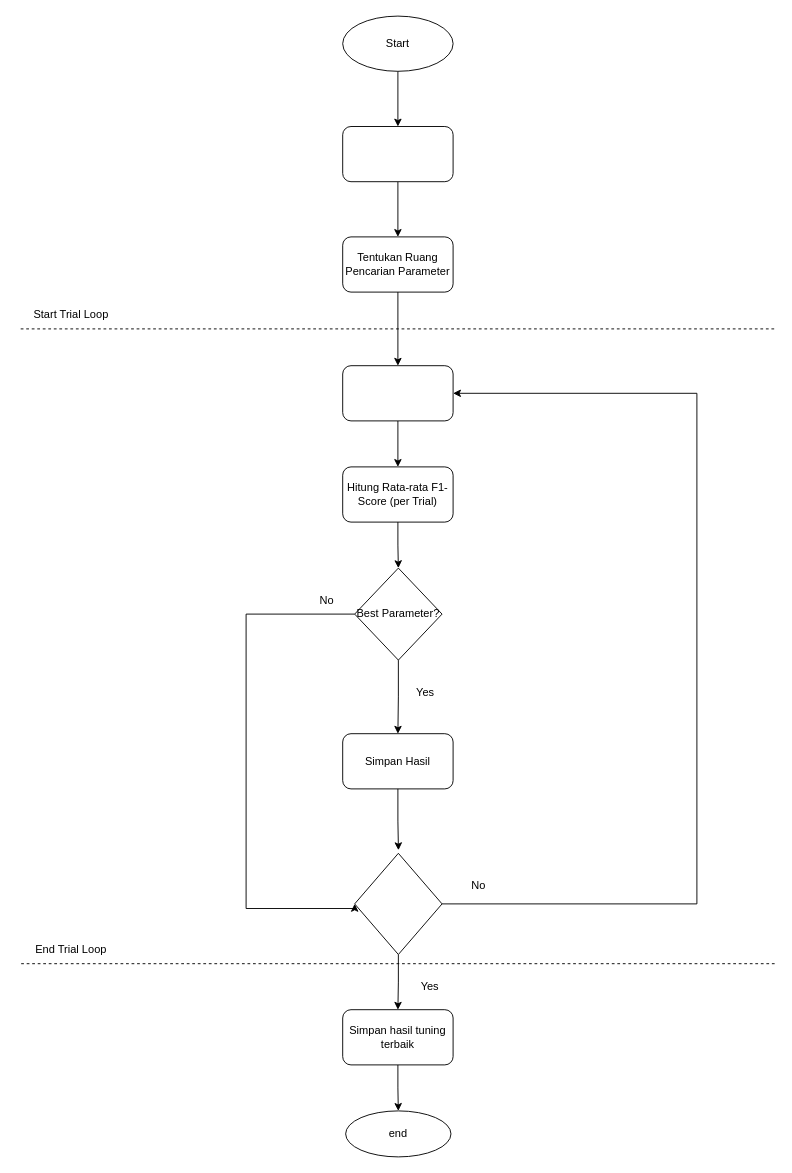
Image size: 792x1173. Some labels were removed from this diagram. Each missing label, with the box of its shape:
Inisialisasi Optuna Study: (342, 126, 453, 182)
Latih Model XGBoost (per Trial): (342, 365, 453, 421)
Semua Trial selesai?: (354, 852, 442, 954)
